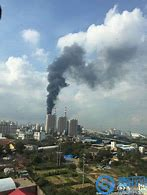smoke: (45, 41, 92, 114)
